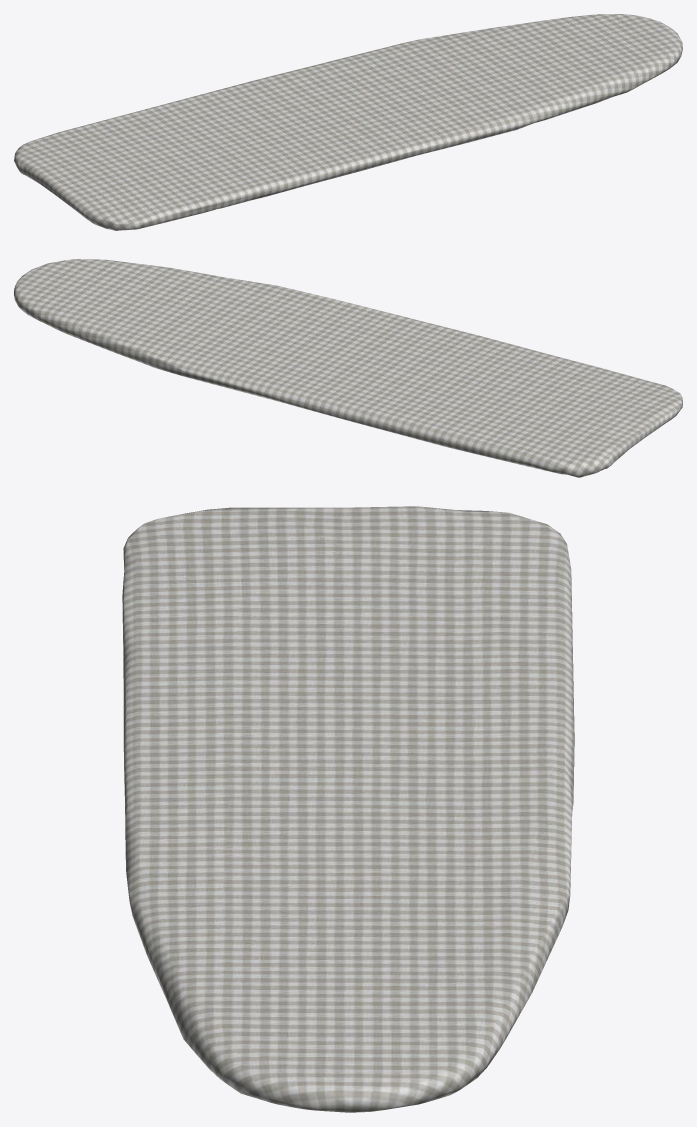
The model's file is lagt_pokrowiec_na_deske_do_prasowania_80342575.glb.
The picture shows the model from 3 angles, top to bottom: view 1: azimuth 30°, elevation 25°; view 2: azimuth 150°, elevation 25°; view 3: azimuth 270°, elevation 25°; orthographic projection. The views are drawn at different scales.
Parts seen in each view (by area): view 1: lagt_pokrowiec_na_deske_do_prasowania_80342575; view 2: lagt_pokrowiec_na_deske_do_prasowania_80342575; view 3: lagt_pokrowiec_na_deske_do_prasowania_80342575.
Boxes of the visible parts, x1,y1,x2,y2 form: lagt_pokrowiec_na_deske_do_prasowania_80342575: [14, 14, 682, 230]; lagt_pokrowiec_na_deske_do_prasowania_80342575: [14, 259, 682, 477]; lagt_pokrowiec_na_deske_do_prasowania_80342575: [122, 506, 574, 1112].
Size of the model in its own units: 1.21 by 0.0466 by 0.3833.
Materials: 1 (1 with a texture image).
